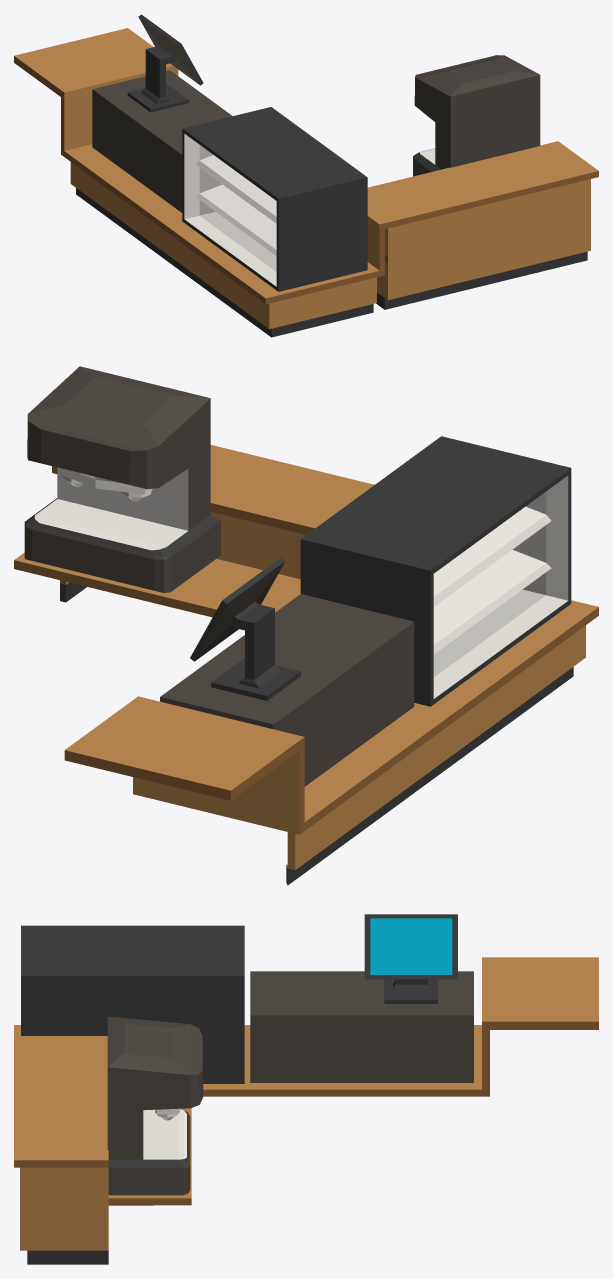
File: table_bar.fbx
The picture shows the model from 3 angles, top to bottom: view 1: azimuth 30°, elevation 25°; view 2: azimuth 150°, elevation 25°; view 3: azimuth 270°, elevation 25°; orthographic projection. The views are drawn at different scales.
Parts seen in each view (by area): view 1: mesh_TableBar, Cube.003, Cube.002, Cube.004, Cube.001; view 2: mesh_TableBar, Cube.003, Cube.002, Cube.004, Cube.001; view 3: mesh_TableBar, Cube.003, Cube.004, Cube.002, Cube.001.
Part boxes in pixels (bbox=[...]): mesh_TableBar: bbox=[14, 28, 598, 337]; Cube.003: bbox=[182, 107, 367, 291]; Cube.002: bbox=[413, 55, 540, 176]; Cube.004: bbox=[92, 70, 232, 212]; Cube.001: bbox=[127, 14, 203, 112]; mesh_TableBar: bbox=[14, 445, 598, 885]; Cube.003: bbox=[300, 436, 571, 706]; Cube.002: bbox=[24, 366, 220, 592]; Cube.004: bbox=[160, 594, 414, 786]; Cube.001: bbox=[190, 557, 300, 700]; mesh_TableBar: bbox=[14, 957, 598, 1264]; Cube.003: bbox=[21, 925, 244, 1083]; Cube.004: bbox=[250, 971, 473, 1082]; Cube.002: bbox=[107, 1016, 203, 1195]; Cube.001: bbox=[364, 914, 457, 1003].
Bounding box in the file's own units: 3 × 1.5 × 3.92.
